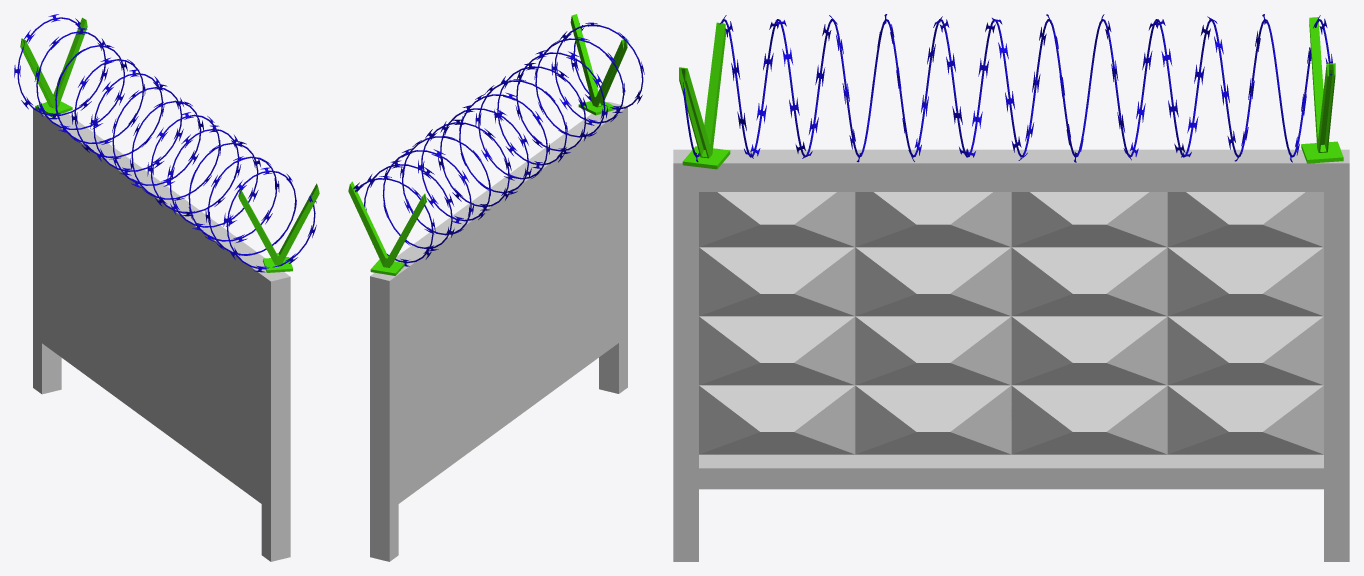
The picture shows the model from 3 angles, left to right: view 1: azimuth 30°, elevation 25°; view 2: azimuth 150°, elevation 25°; view 3: azimuth 270°, elevation 25°; orthographic projection. The views are drawn at different scales.
Visible parts, largest first — view 1: Barbed Wire; view 2: Barbed Wire; view 3: Barbed Wire.
Boxes of the visible parts, <box> form: Barbed Wire: <box>14,14,319,561</box>; Barbed Wire: <box>348,14,644,561</box>; Barbed Wire: <box>673,14,1349,561</box>.
Bounding box in the file's own units: 81.5 × 346 × 396.
